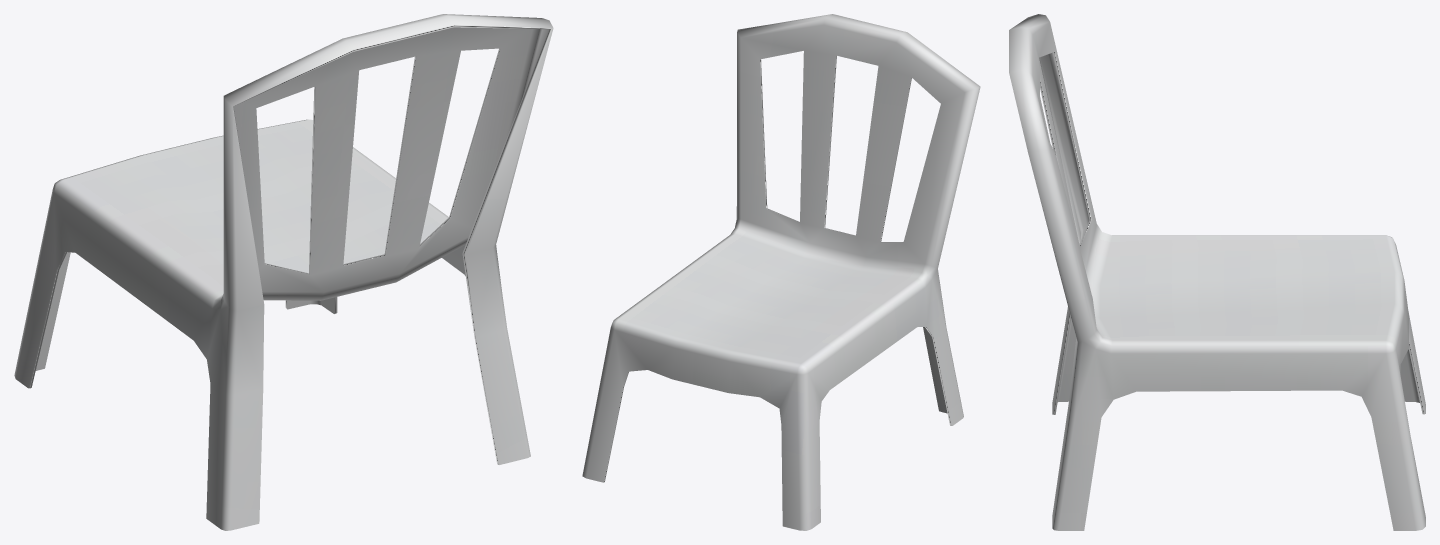
Rendered from a_com_house_a01_chair01.gltf.
3 renders of one model, left to right at view 1: azimuth 30°, elevation 25°; view 2: azimuth 150°, elevation 25°; view 3: azimuth 270°, elevation 25°, orthographic. The views are drawn at different scales.
Visible parts, largest first — view 1: a_com_house_a01_chair01; view 2: a_com_house_a01_chair01; view 3: a_com_house_a01_chair01.
Part boxes in pixels (bbox=[...]): a_com_house_a01_chair01: bbox=[14, 14, 553, 530]; a_com_house_a01_chair01: bbox=[582, 14, 980, 530]; a_com_house_a01_chair01: bbox=[1009, 14, 1425, 530].
Bounding box in the file's own units: 0.5821 × 0.8233 × 0.7449.
1 material, 1 textured.
